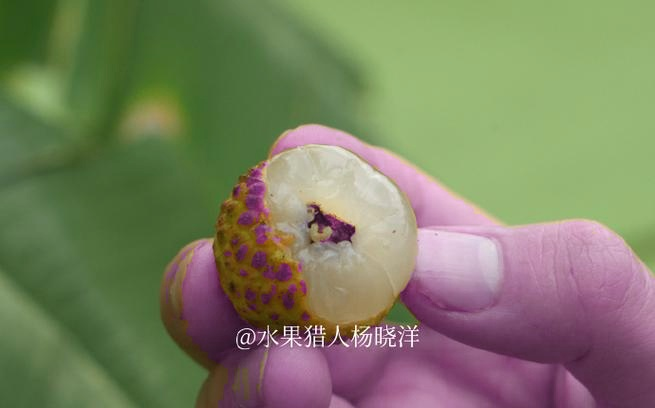Borer: (308, 207, 342, 245)
